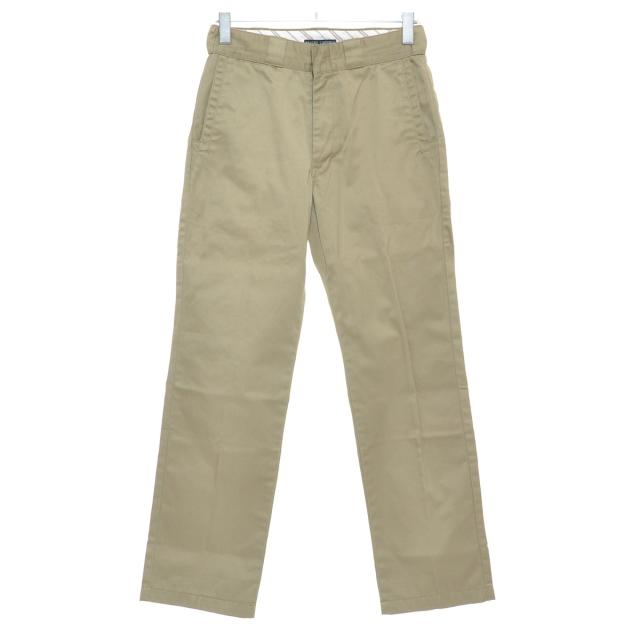long-pants: (136, 31, 500, 618)
